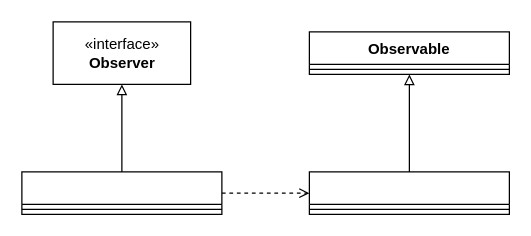
Image size: 531x236. Some labels were removed from this diagram. Here are the shapes that lost their labels. From the top down, the box of each, then its label:
(21, 171, 222, 214): Cliente
(308, 171, 509, 214): Livro
